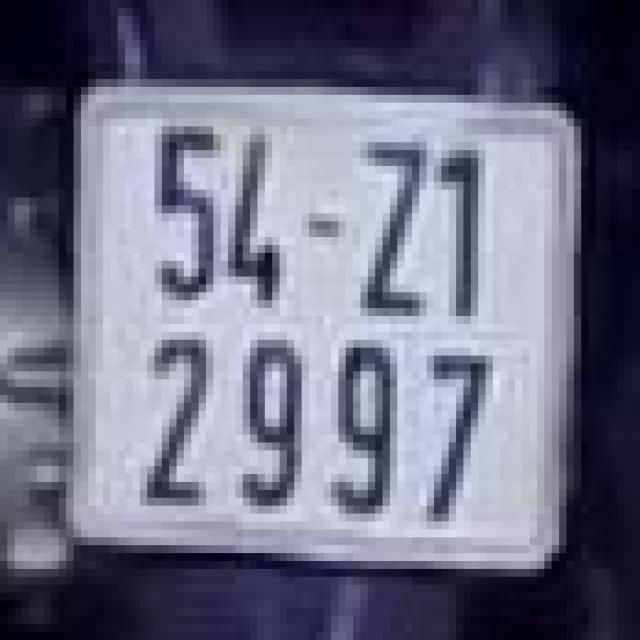1: (441, 134, 493, 324)
2: (143, 324, 217, 506)
4: (221, 126, 287, 316)
5: (140, 115, 228, 320)
7: (408, 340, 504, 529)
9: (320, 332, 401, 521), (235, 332, 309, 513)
Z: (349, 130, 438, 320)
